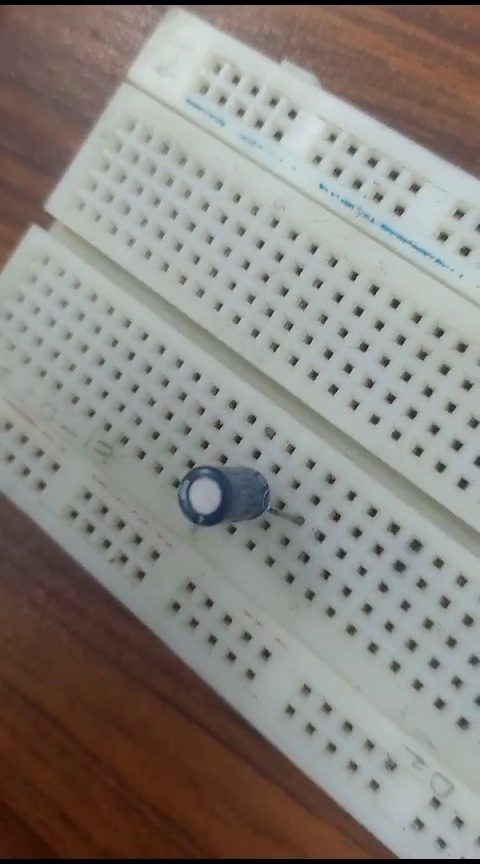capacitor: (168, 455, 346, 543)
